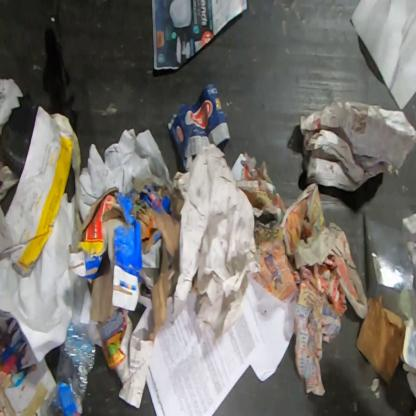cardboard: (68, 187, 143, 324), (130, 177, 184, 341), (167, 82, 231, 168)
rigid_plastic: (48, 317, 97, 415)
soft_plastic: (364, 214, 414, 299)
